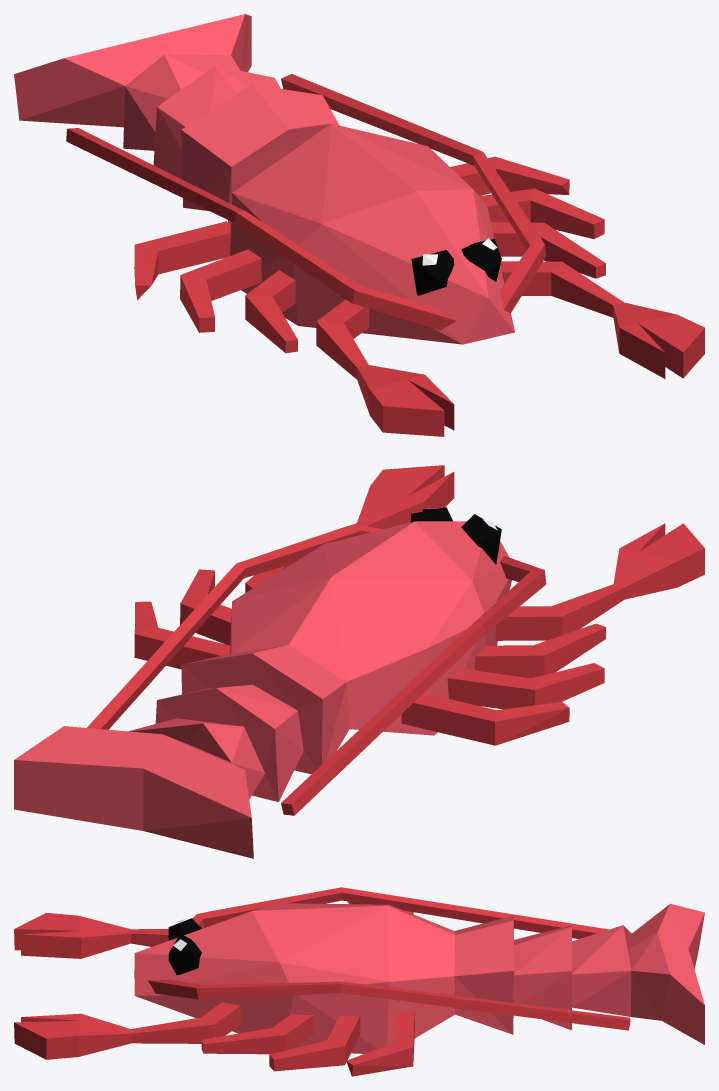
File: Lobster 01.fbx
3 renders of one model, top to bottom at view 1: azimuth 30°, elevation 25°; view 2: azimuth 150°, elevation 25°; view 3: azimuth 270°, elevation 25°, orthographic. The views are drawn at different scales.
Parts seen in each view (by area): view 1: Lobster 01; view 2: Lobster 01; view 3: Lobster 01.
Boxes of the visible parts, x1=… form: Lobster 01: x1=14, y1=14, x2=704, y2=436; Lobster 01: x1=14, y1=465, x2=704, y2=858; Lobster 01: x1=14, y1=887, x2=704, y2=1076.
Bounding box in the file's own units: 66.09 × 19.84 × 114.
